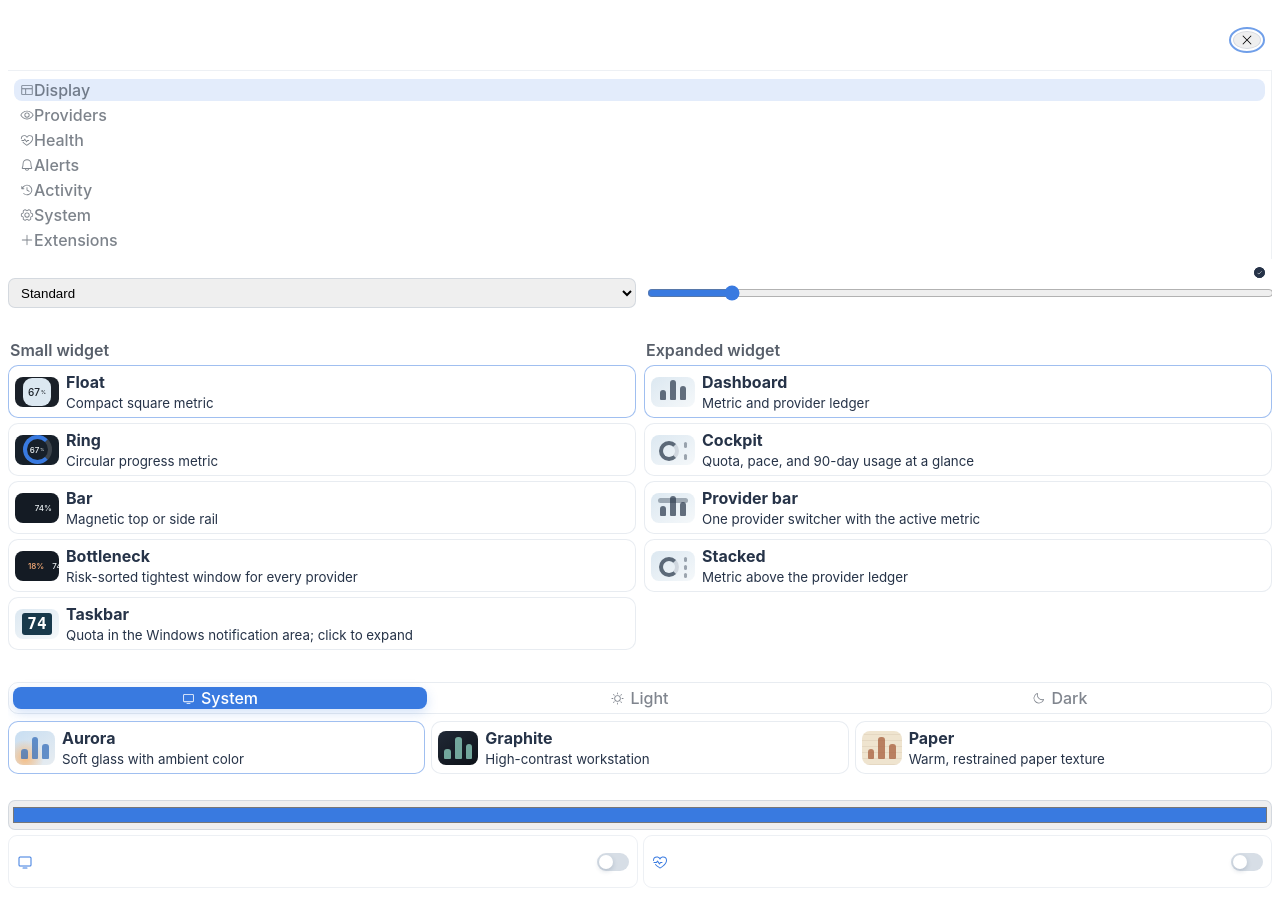
ControlCenter provider health › shows provider source, status, history, and recovery context
Click the button "Health" at (59, 140), box [14,129,1265,151]
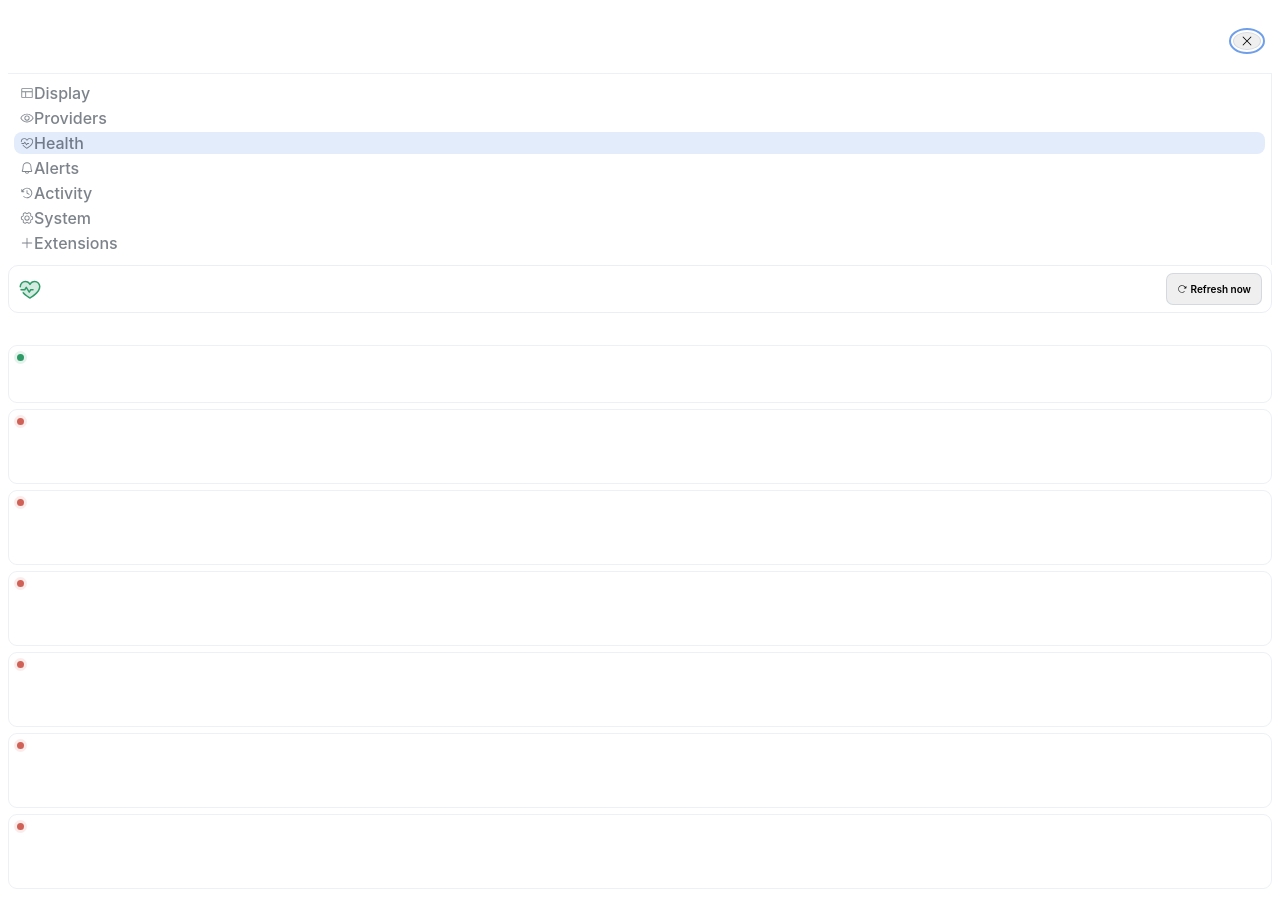
Result: the text "Last checked: Not checked yet" is shown 7 times
